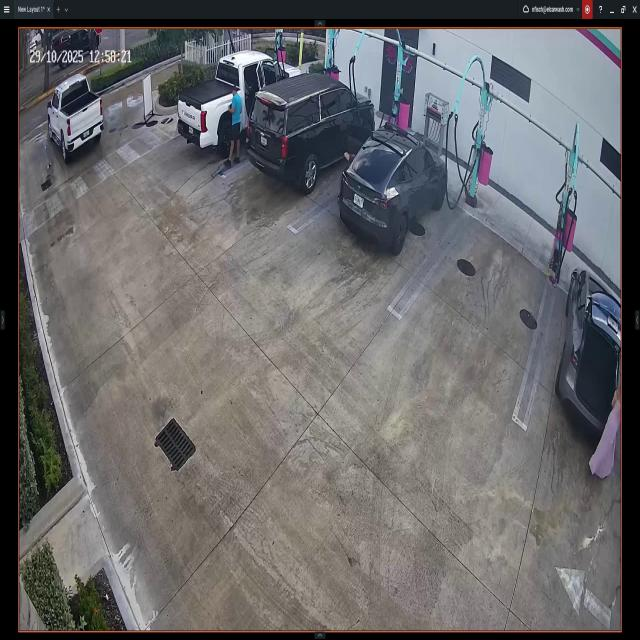Car: (180, 49, 302, 158), (342, 128, 447, 250), (557, 262, 620, 441), (255, 89, 372, 184), (48, 75, 102, 165)
